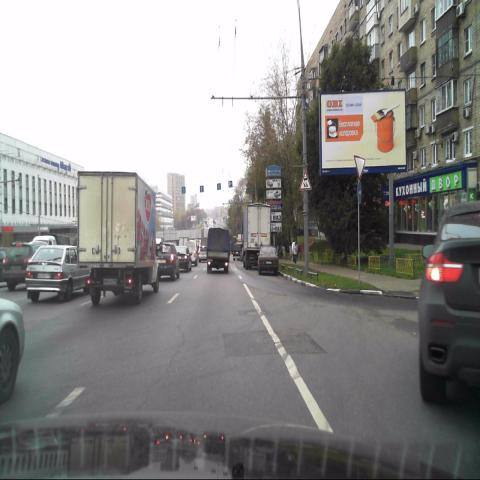1_15: (299, 171, 312, 190)
